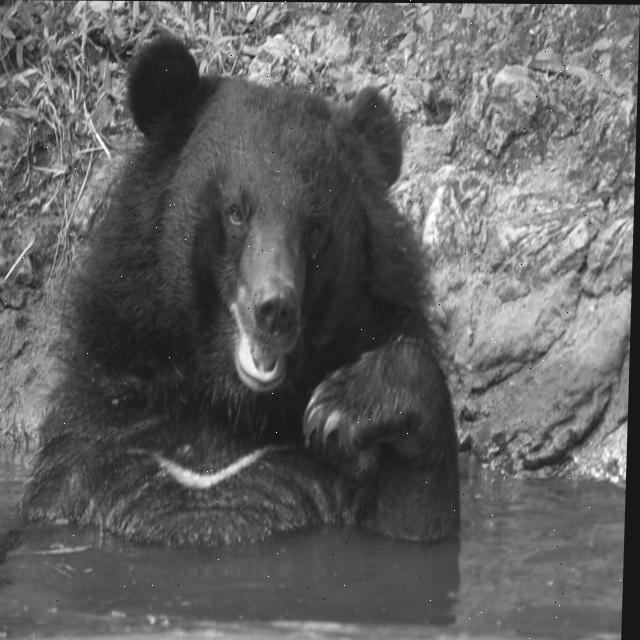Bear: (16, 27, 491, 560)
